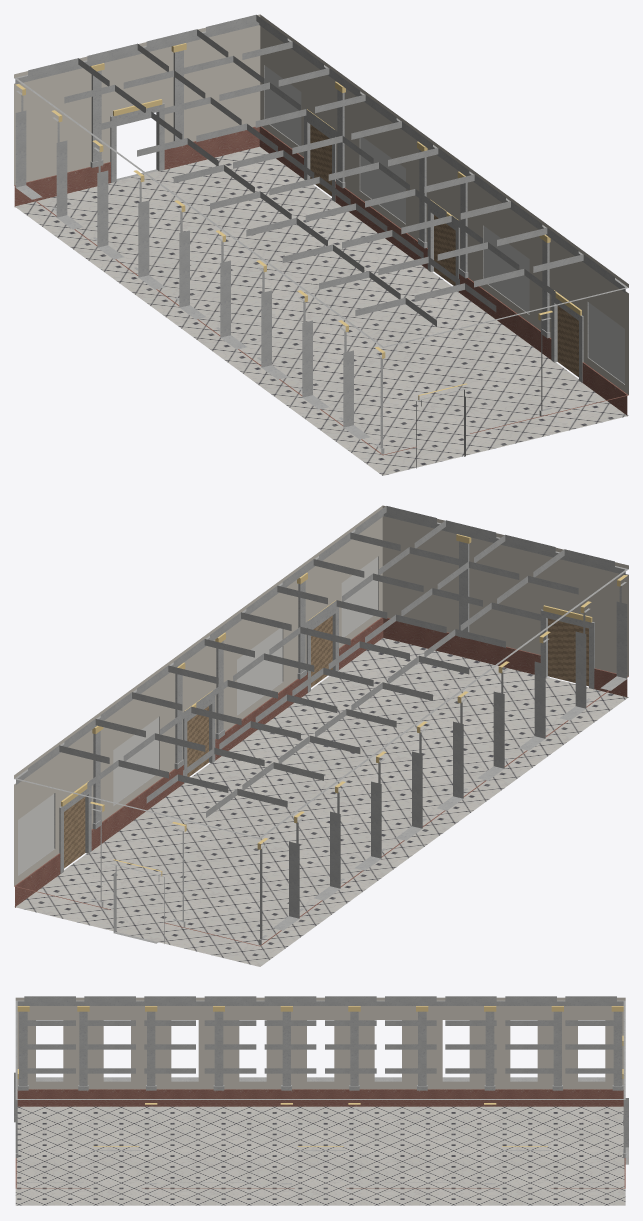
File: gallery.glb
The picture shows the model from 3 angles, top to bottom: view 1: azimuth 30°, elevation 25°; view 2: azimuth 150°, elevation 25°; view 3: azimuth 270°, elevation 25°; orthographic projection. The views are drawn at different scales.
Visible parts, largest first — view 1: gallery; view 2: gallery; view 3: gallery.
Part boxes in pixels (x1,y1,x2,y2): gallery: (14, 14, 628, 475); gallery: (14, 505, 628, 966); gallery: (14, 996, 628, 1205).
Size of the model in its own units: 14.5 by 7.4 by 36.1.
Materials: 9 (5 with a texture image).
